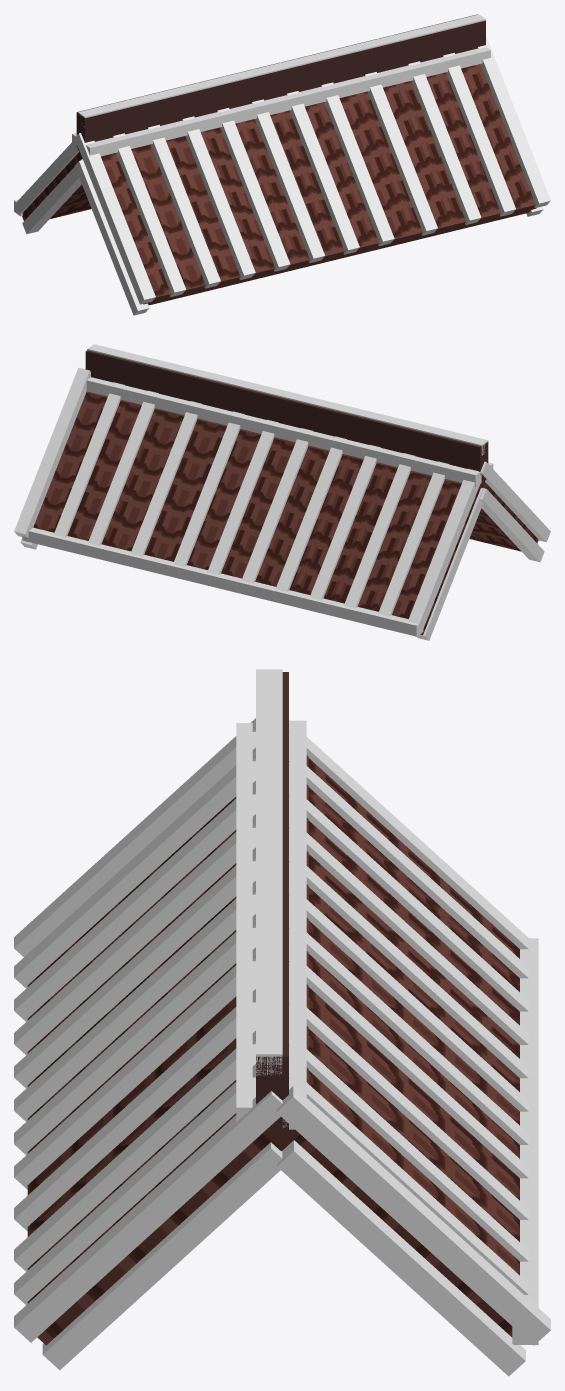
Rendered from Roof_NeonLights2.fbx.
3 renders of one model, top to bottom at view 1: azimuth 30°, elevation 25°; view 2: azimuth 150°, elevation 25°; view 3: azimuth 270°, elevation 25°, orthographic. The views are drawn at different scales.
Visible parts, largest first — view 1: Plane.013, Cube.085, Cube.106, Cube.090, Cube.108, Cube.109, Cube.127, Cube.126, Cube.119, Cube.115, Cube.123, Cube.131 (+8 smaller); view 2: Plane.012, Cube.085, Cube.087, Cube.091, Cube.090, Cube.110, Cube.107, Cube.124, Cube.121, Cube.128, Cube.132, Cube.120 (+9 smaller); view 3: Plane.012, Plane.013, Cube.110, Cube.090, Cube.109, Cube.111, Cube.112, Cube.106, Cube.123, Cube.118, Cube.127, Cube.130 (+21 smaller).
Boxes of the visible parts, box(x1,y1,x2,y2) form: Plane.013: box(101, 64, 536, 305); Cube.085: box(76, 14, 485, 151); Cube.106: box(86, 47, 490, 156); Cube.090: box(78, 14, 485, 127); Cube.108: box(74, 133, 155, 304); Cube.109: box(477, 36, 550, 208); Cube.127: box(321, 82, 394, 246); Cube.126: box(286, 91, 359, 254); Cube.119: box(182, 116, 255, 279); Cube.115: box(113, 133, 186, 296); Cube.123: box(252, 99, 324, 263); Cube.131: box(408, 61, 481, 224); Plane.012: box(33, 393, 484, 635); Cube.085: box(85, 350, 488, 482); Cube.087: box(22, 527, 423, 636); Cube.091: box(86, 377, 481, 487); Cube.090: box(87, 344, 488, 455); Cube.110: box(14, 367, 90, 537); Cube.107: box(408, 468, 480, 629); Cube.124: box(241, 428, 312, 583); Cube.121: box(275, 436, 346, 591); Cube.128: box(173, 411, 244, 566); Cube.132: box(88, 390, 159, 545); Cube.120: box(310, 445, 380, 599); Plane.012: box(294, 758, 519, 1337); Plane.013: box(27, 755, 308, 1345); Cube.110: box(276, 1086, 550, 1345); Cube.090: box(256, 669, 282, 1075); Cube.109: box(14, 1091, 282, 1342); Cube.111: box(277, 1140, 525, 1376); Cube.112: box(42, 1142, 282, 1369); Cube.106: box(236, 723, 255, 1122); Cube.123: box(14, 881, 255, 1121); Cube.118: box(14, 781, 255, 1021); Cube.127: box(14, 947, 255, 1189); Cube.130: box(14, 989, 255, 1231).
Size of the model in its own units: 590 by 221 by 341.
35 materials, 2 textured.
